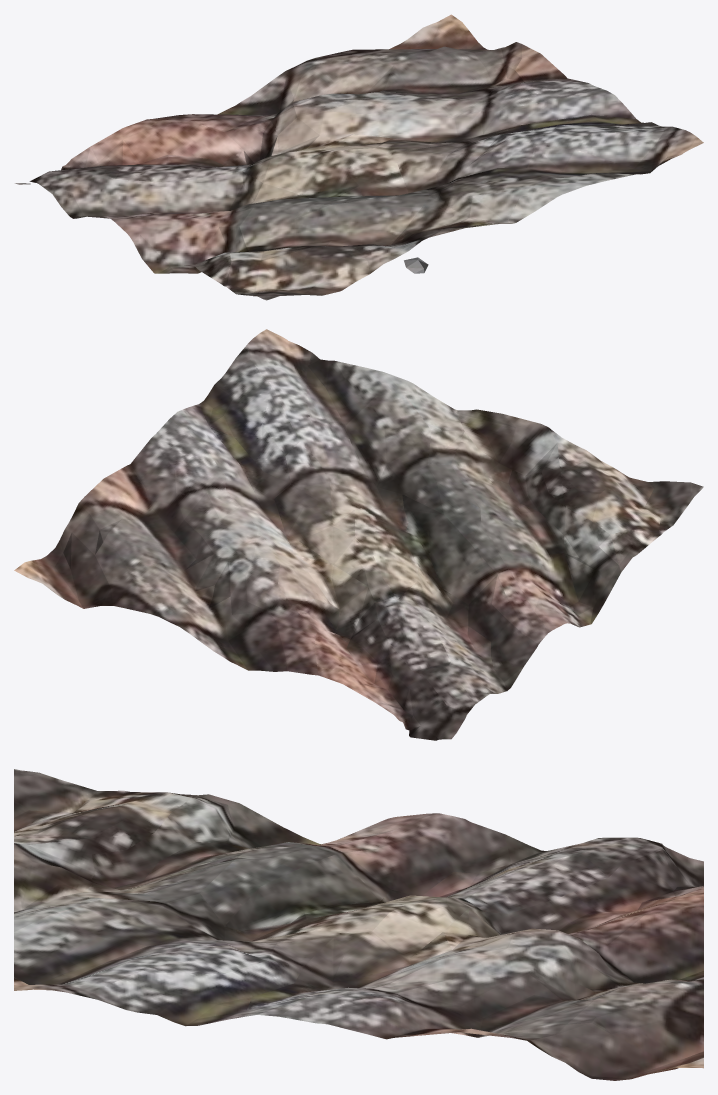
3 renders of one model, top to bottom at view 1: azimuth 30°, elevation 25°; view 2: azimuth 150°, elevation 25°; view 3: azimuth 270°, elevation 25°, orthographic. The views are drawn at different scales.
Size of the model in its own units: 0.8374 by 0.2331 by 0.8374.
Materials: 3 (3 with a texture image).
